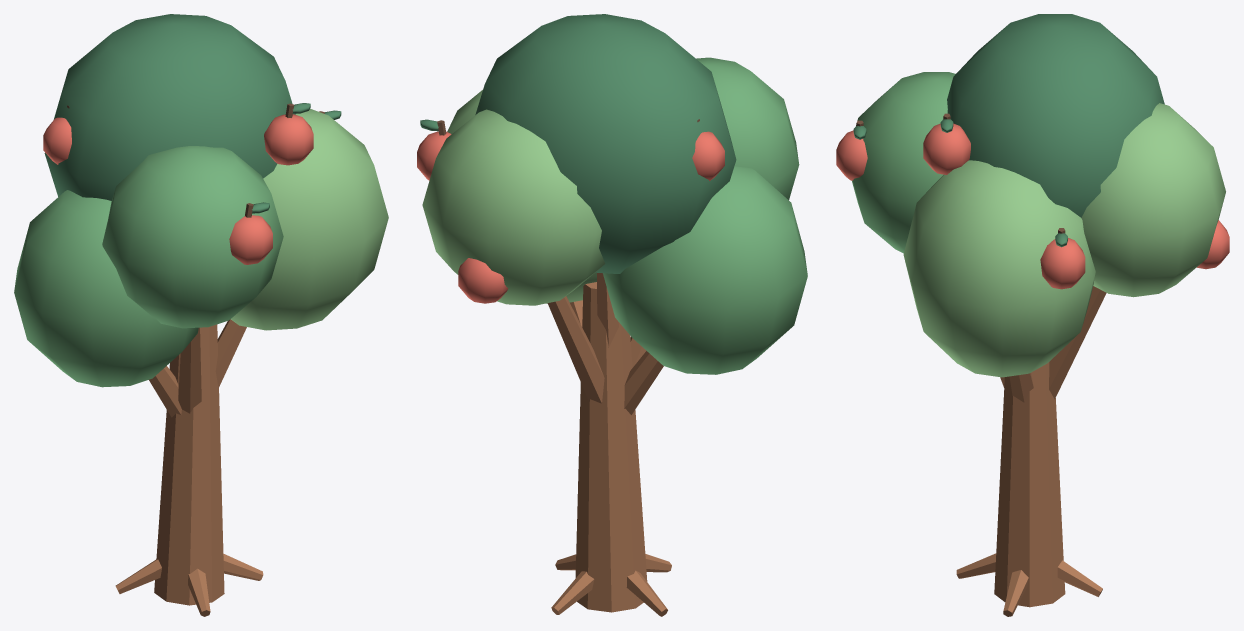
File: apple-tree.glb
3 views of the same model, side by side, from view 1: azimuth 30°, elevation 25°; view 2: azimuth 150°, elevation 25°; view 3: azimuth 270°, elevation 25° (orthographic). The views are drawn at different scales.
Visible parts, largest first — view 1: canopy-2, canopy-3, canopy-0, canopy-1, trunk, fruit-apple-3, fruit-apple-2, branch-3, fruit-apple-4, branch-1, branch-0, root-1 (+2 smaller); view 2: canopy-2, canopy-0, canopy-4, trunk, canopy-3, branch-4, fruit-apple-5, branch-0, fruit-apple-4, canopy-1, branch-2, fruit-apple-6 (+2 smaller); view 3: canopy-1, canopy-2, canopy-4, trunk, canopy-3, fruit-apple-3, fruit-apple-6, branch-4, fruit-apple-2, fruit-apple-5, root-3, root-0 (+1 smaller).
Boxes of the visible parts, box(x1,y1,x2,y2) form: canopy-2: box(44, 14, 295, 200); canopy-3: box(102, 146, 283, 328); canopy-0: box(14, 190, 198, 387); canopy-1: box(231, 108, 388, 330); trunk: box(154, 324, 224, 605); fruit-apple-3: box(264, 114, 313, 165); fruit-apple-2: box(229, 215, 272, 264); branch-3: box(178, 327, 201, 413); fruit-apple-4: box(43, 117, 71, 164); branch-1: box(215, 319, 246, 387); branch-0: box(149, 366, 181, 417); root-1: box(188, 568, 210, 616); canopy-2: box(475, 14, 736, 273); canopy-0: box(603, 166, 807, 374); canopy-4: box(422, 109, 605, 305); trunk: box(575, 282, 647, 612); canopy-3: box(696, 57, 799, 199); branch-4: box(547, 296, 604, 403); fruit-apple-5: box(458, 258, 508, 303); branch-0: box(624, 351, 663, 414); fruit-apple-4: box(692, 131, 724, 180); canopy-1: box(447, 90, 596, 303); branch-2: box(597, 273, 618, 347); fruit-apple-6: box(417, 131, 451, 180); canopy-1: box(903, 160, 1095, 377); canopy-2: box(947, 14, 1164, 217); canopy-4: box(1081, 103, 1225, 297); trunk: box(994, 362, 1065, 607); canopy-3: box(852, 72, 955, 253); fruit-apple-3: box(923, 123, 970, 174); fruit-apple-6: box(1040, 238, 1085, 289); branch-4: box(1049, 286, 1106, 399); fruit-apple-2: box(836, 130, 867, 180); fruit-apple-5: box(1197, 220, 1229, 269); root-3: box(1057, 560, 1102, 596); root-0: box(1003, 570, 1028, 616).
Size of the model in its own units: 1.88 by 2.93 by 1.85.
